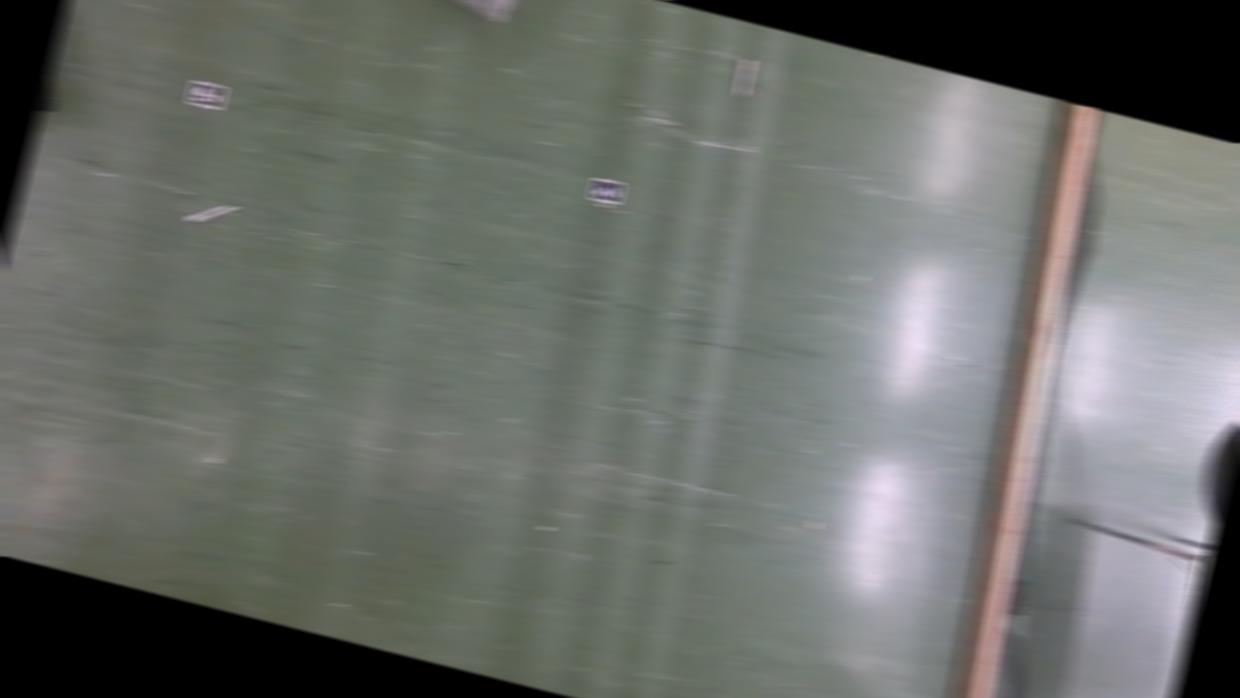probes: (188, 196, 235, 230), (734, 58, 755, 97)
rako: (404, 0, 536, 29)
